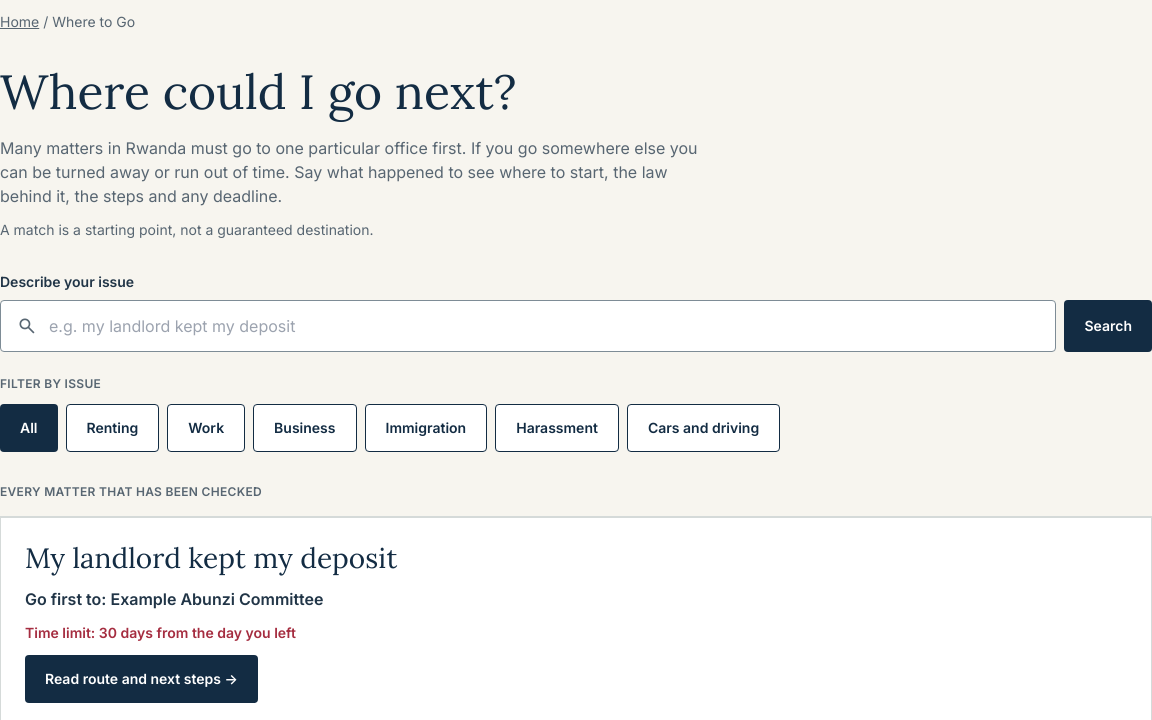
Test: Where to go › can go back to every matter after a search
This screenshot has width=1152, height=720.
Expected: the heading "My landlord kept my deposit" is shown, [25, 540, 397, 576]
In the search field labelled "Describe your issue": (544, 326) [49, 304, 1040, 348], type "deposit"
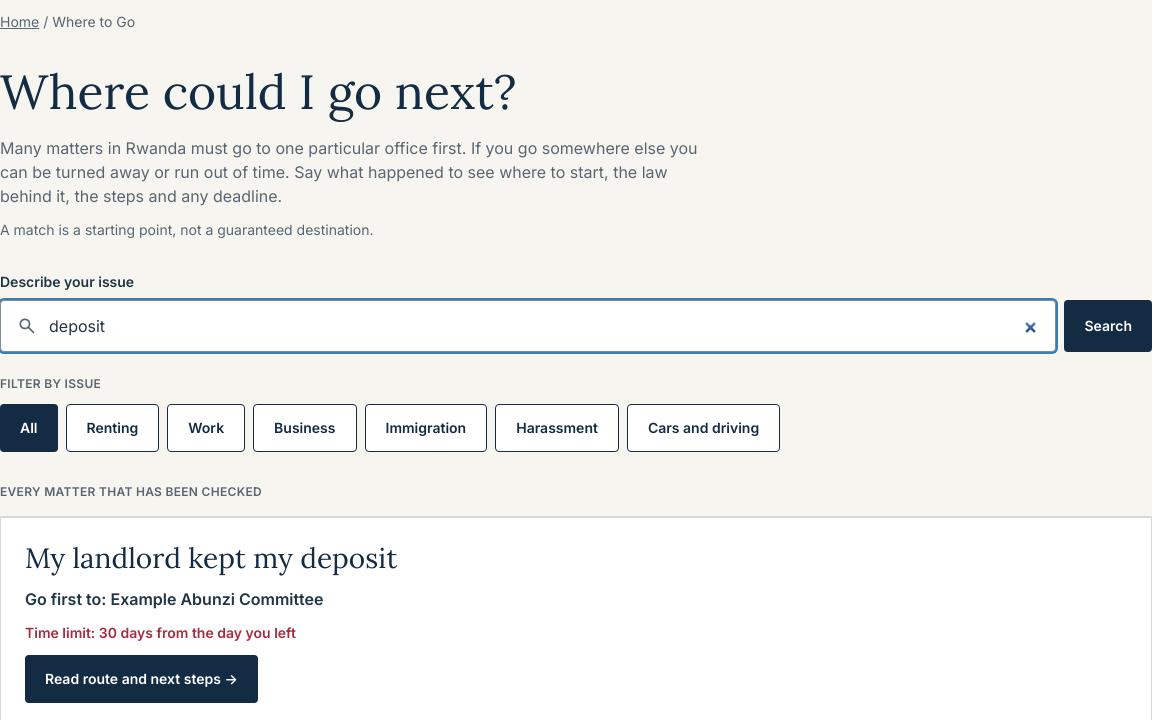
Click the button "Search": (1108, 326) [1064, 300, 1151, 352]
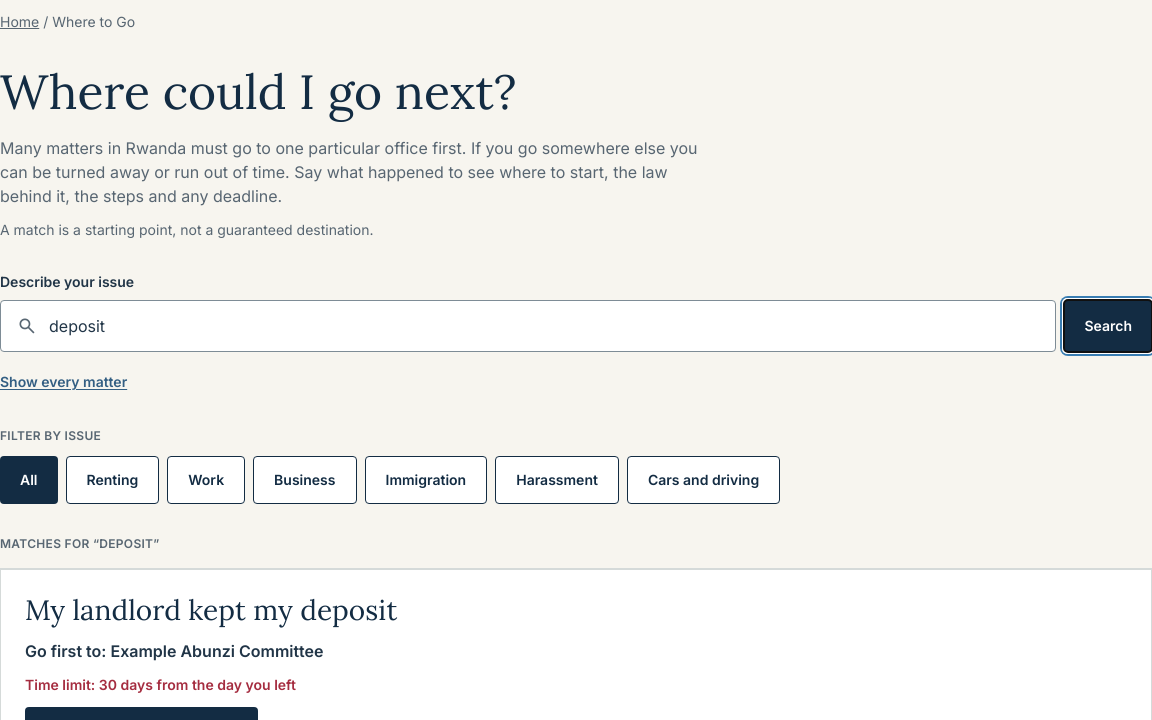
Click the button "Show every matter": (64, 382) [0, 360, 127, 404]
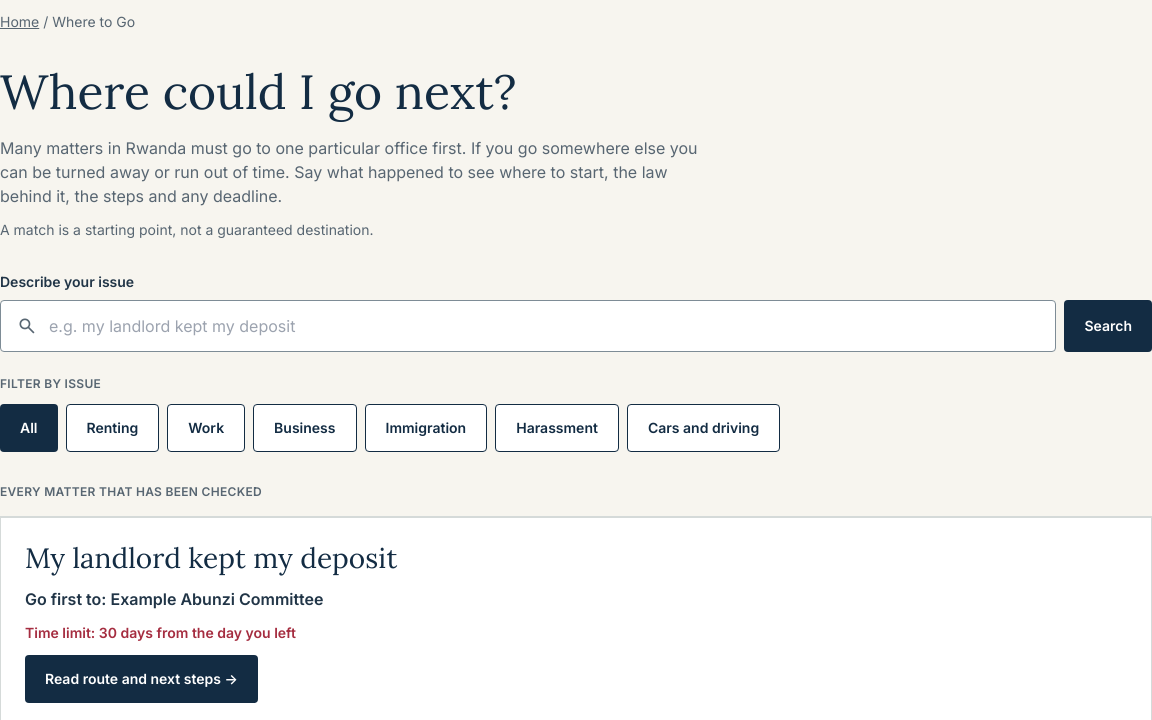
Result: the button "Show every matter" is gone
